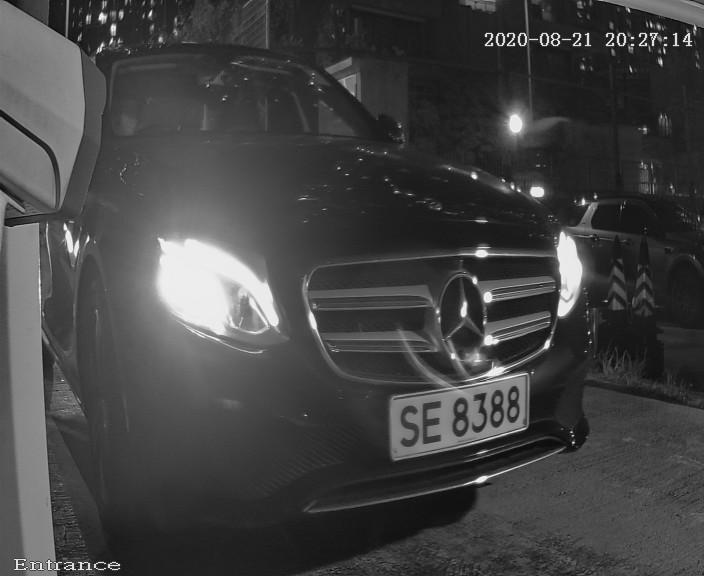Car: (10, 1, 657, 574)
License Plate: (363, 353, 548, 482)
